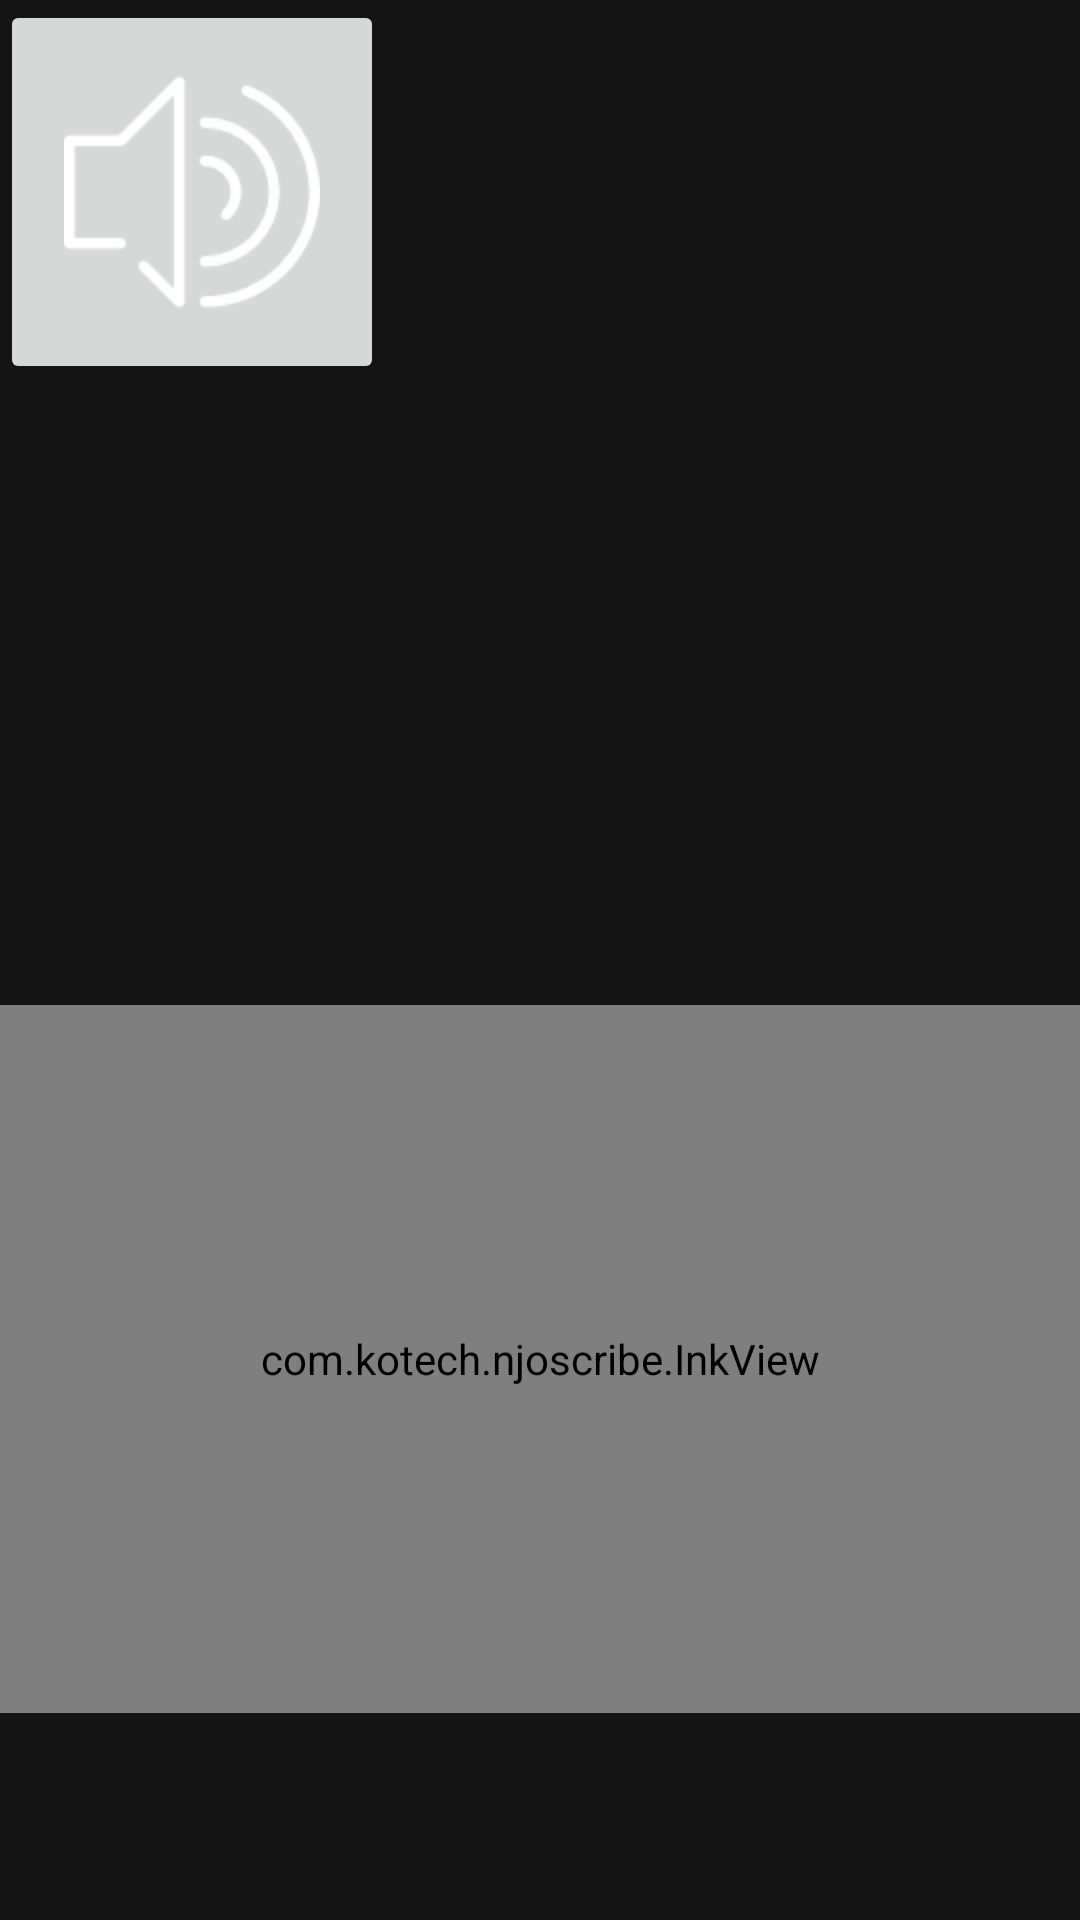

Icons on this 1080*1920 Android screen, each with its box as (x1, y1, x2, y2):
highvolume: (12, 18, 372, 366)
